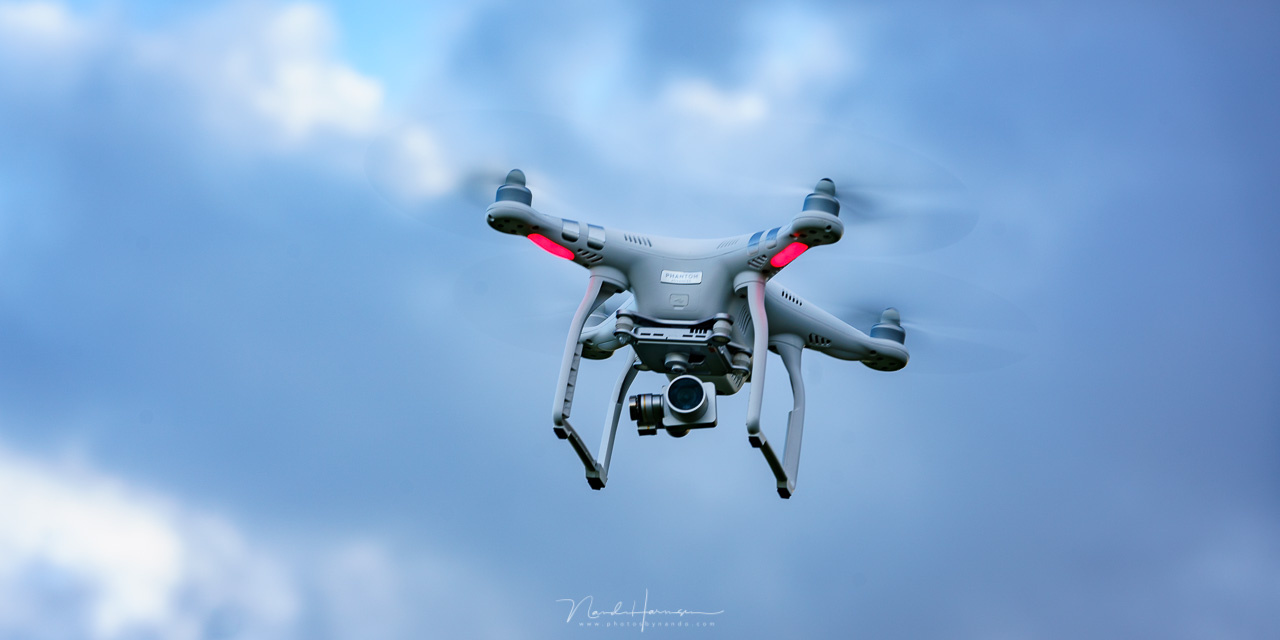drone: (419, 136, 984, 510)
